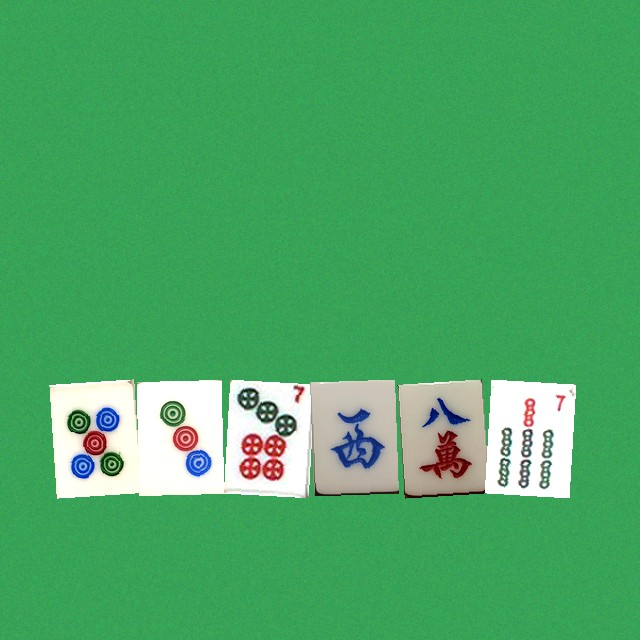tile: (49, 379, 134, 493), (136, 379, 221, 493), (223, 379, 308, 493), (310, 379, 395, 493), (397, 379, 482, 493), (484, 379, 569, 493)
